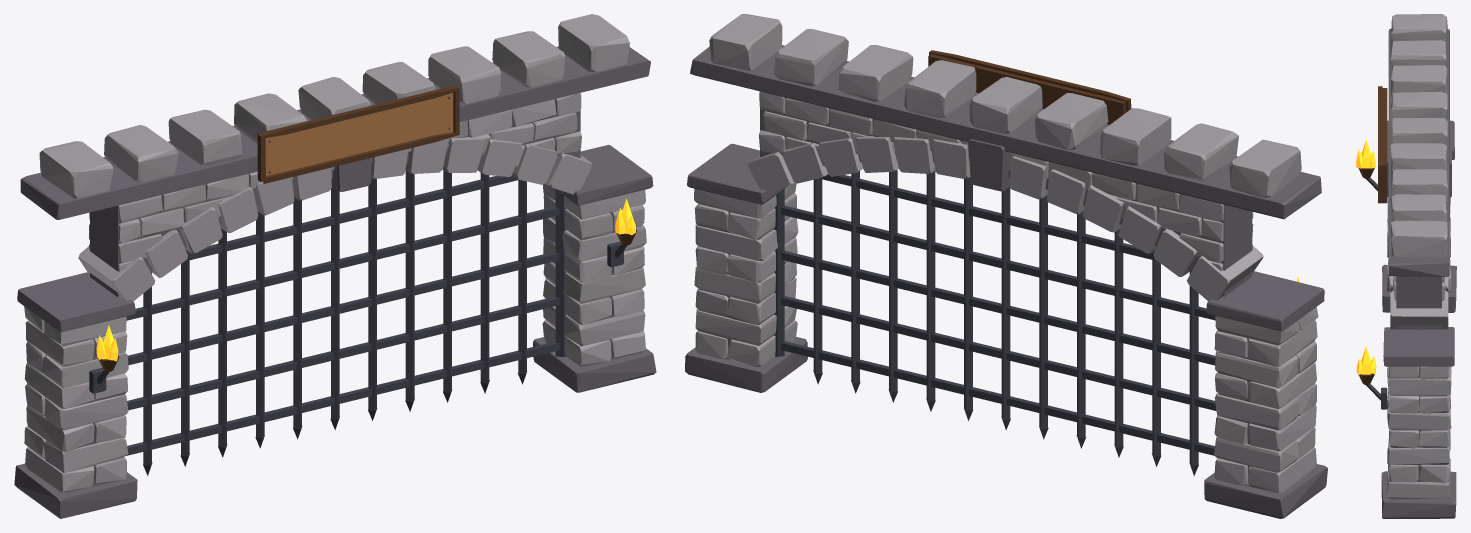
File: lair_gate.glb
3 renders of one model, left to right at view 1: azimuth 30°, elevation 25°; view 2: azimuth 150°, elevation 25°; view 3: azimuth 270°, elevation 25°, orthographic. The views are drawn at different scales.
Visible parts, largest first — view 1: lair_gate, portcullis, sign_board; view 2: lair_gate, portcullis, sign_board; view 3: lair_gate, sign_board, fire_L, fire_R.
Boxes of the visible parts, bbox=[...] form: lair_gate: bbox=[14, 14, 656, 518]; portcullis: bbox=[126, 170, 562, 475]; sign_board: bbox=[257, 86, 459, 183]; lair_gate: bbox=[685, 14, 1327, 518]; portcullis: bbox=[777, 170, 1216, 476]; sign_board: bbox=[928, 50, 1131, 124]; lair_gate: bbox=[1358, 14, 1456, 518]; sign_board: bbox=[1378, 86, 1387, 203]; fire_L: bbox=[1356, 140, 1375, 168]; fire_R: bbox=[1356, 346, 1376, 374].
Bounding box in the file's own units: 36.91 × 19.97 × 6.61.
